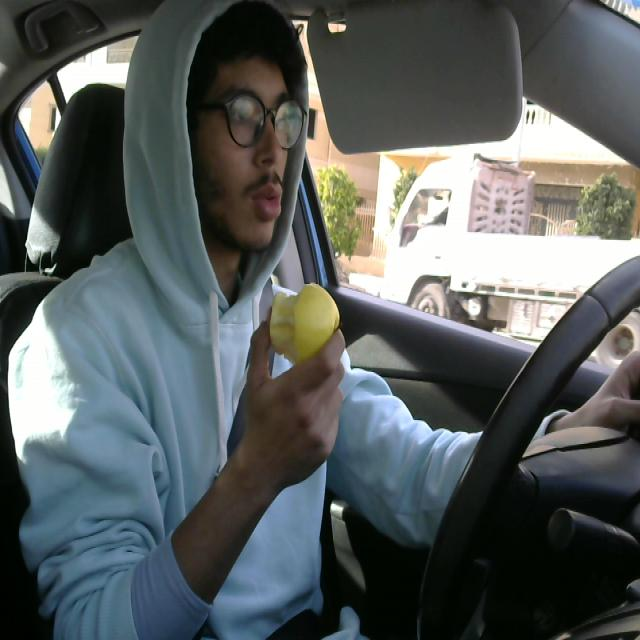eating: (259, 273, 346, 376)
